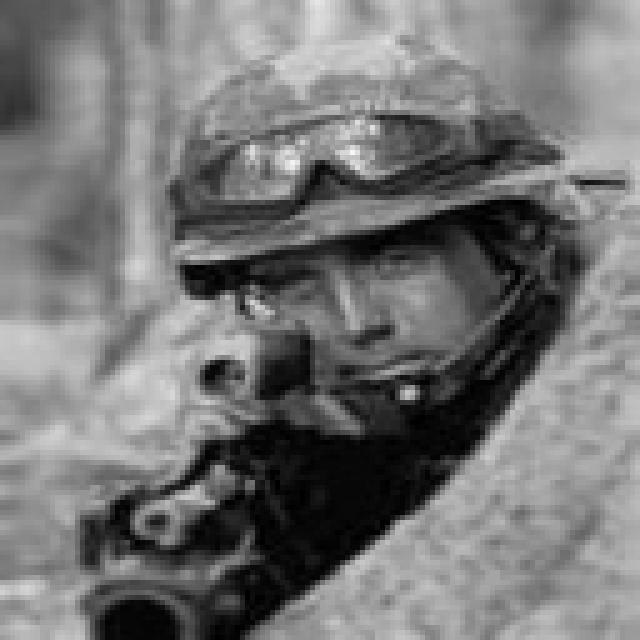Rifle: (50, 305, 390, 640)
